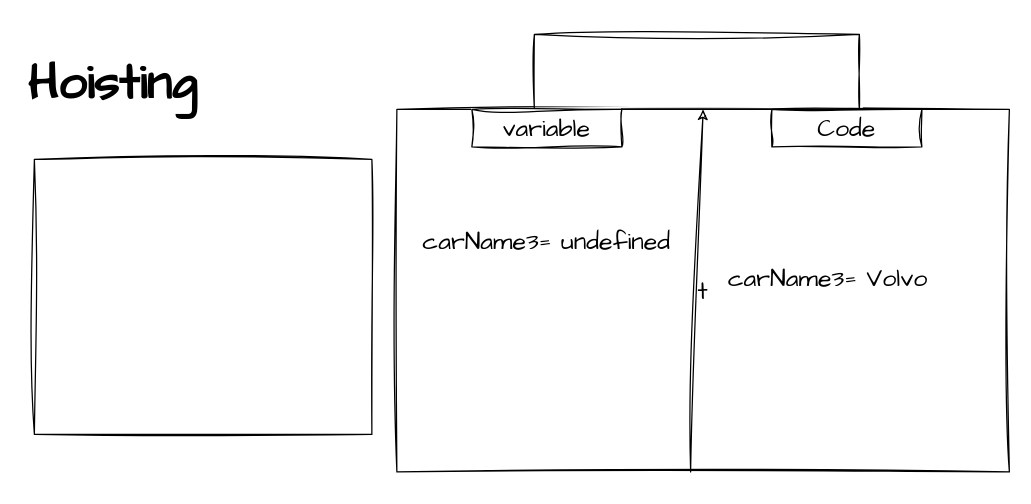
Some shapes in this 1031 by 504 pixel diagram are drawn without their labels. The centre of each missing label's shape, as x and y in pixels:
console . log (carName3); var carName3 = "Volvo" ; . console . log (carName3);: point 202,296
Global execution context: point 696,71
